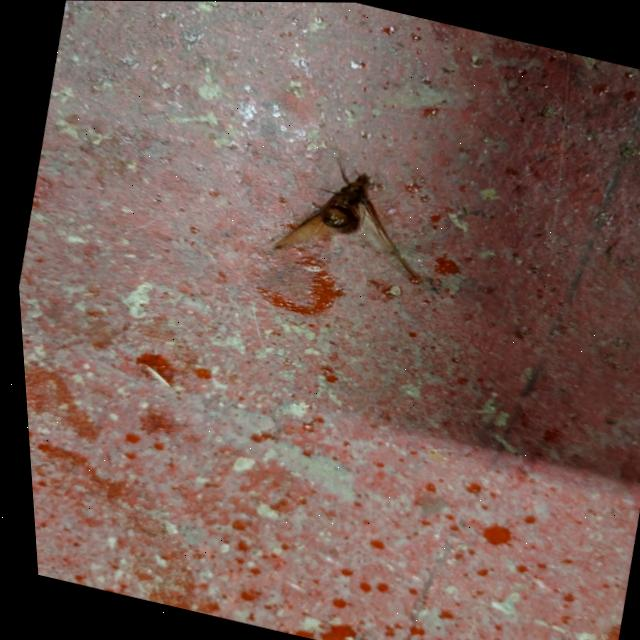Alive-Female-Dealate: (262, 145, 442, 283)
